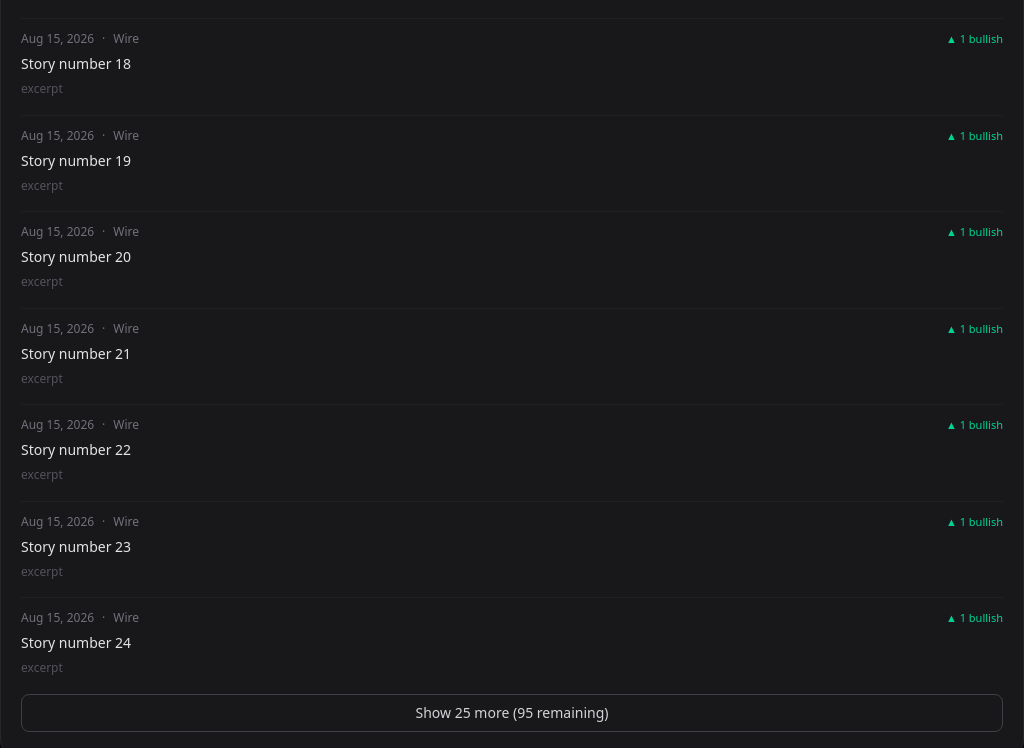
Test: the show-more button reveals the next page
(page scrolled)
Click the button "Show 25 more (95 remaining)".
click(512, 712)  # box [21,694,1003,732]
(page scrolled)
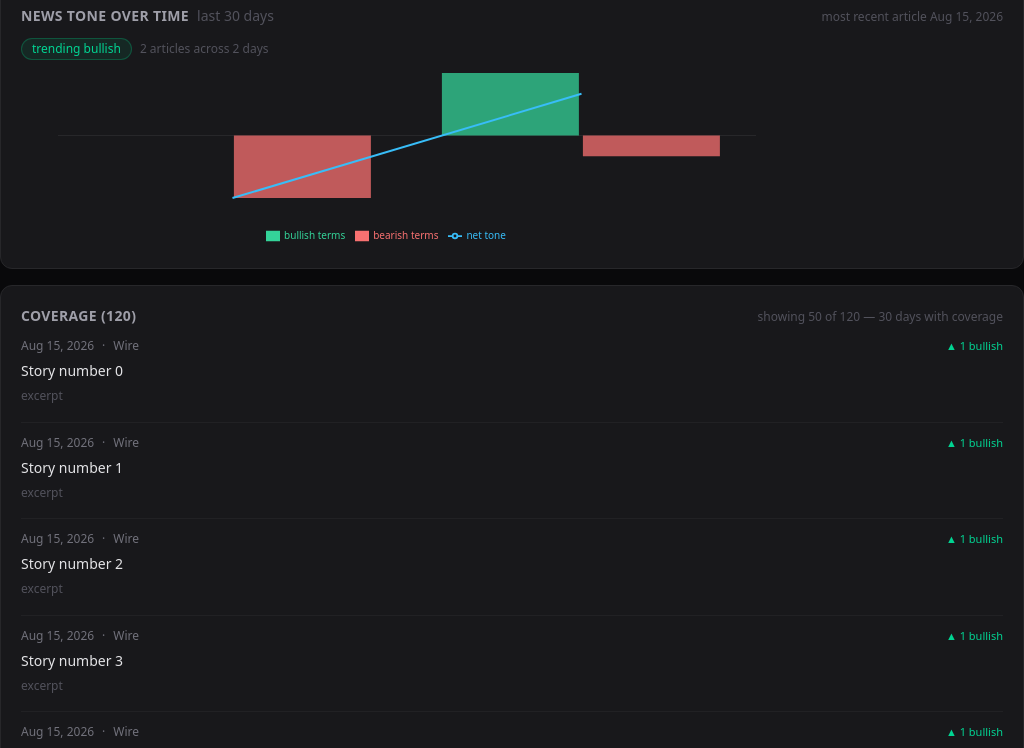
Now the text "showing 50 of 120 — 30 days with coverage" is shown, box [758,309,1003,325]
